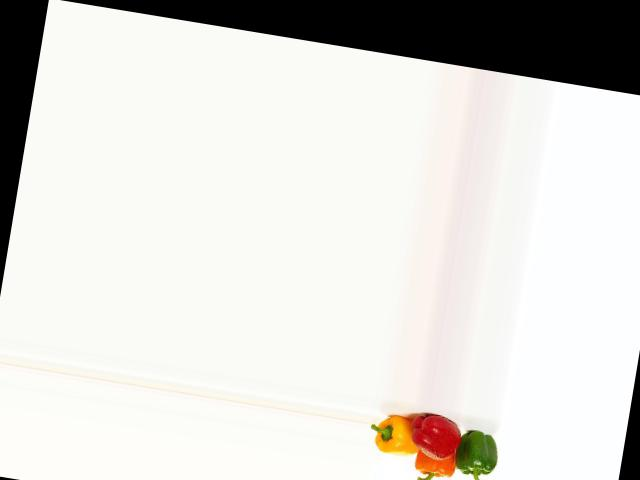bell_pepper: (449, 420, 502, 480)
